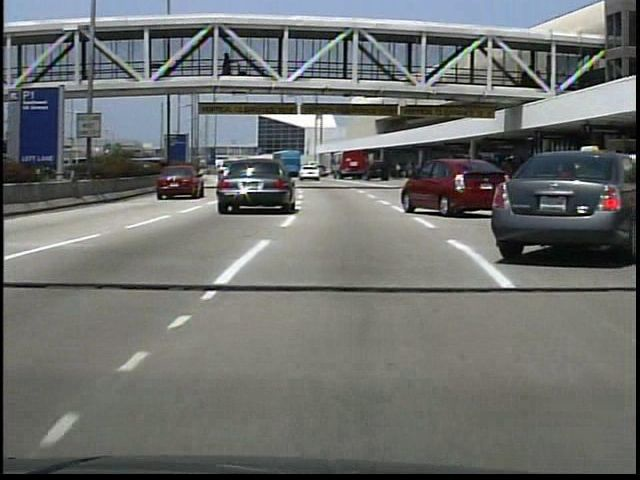person: (222, 51, 237, 79)
